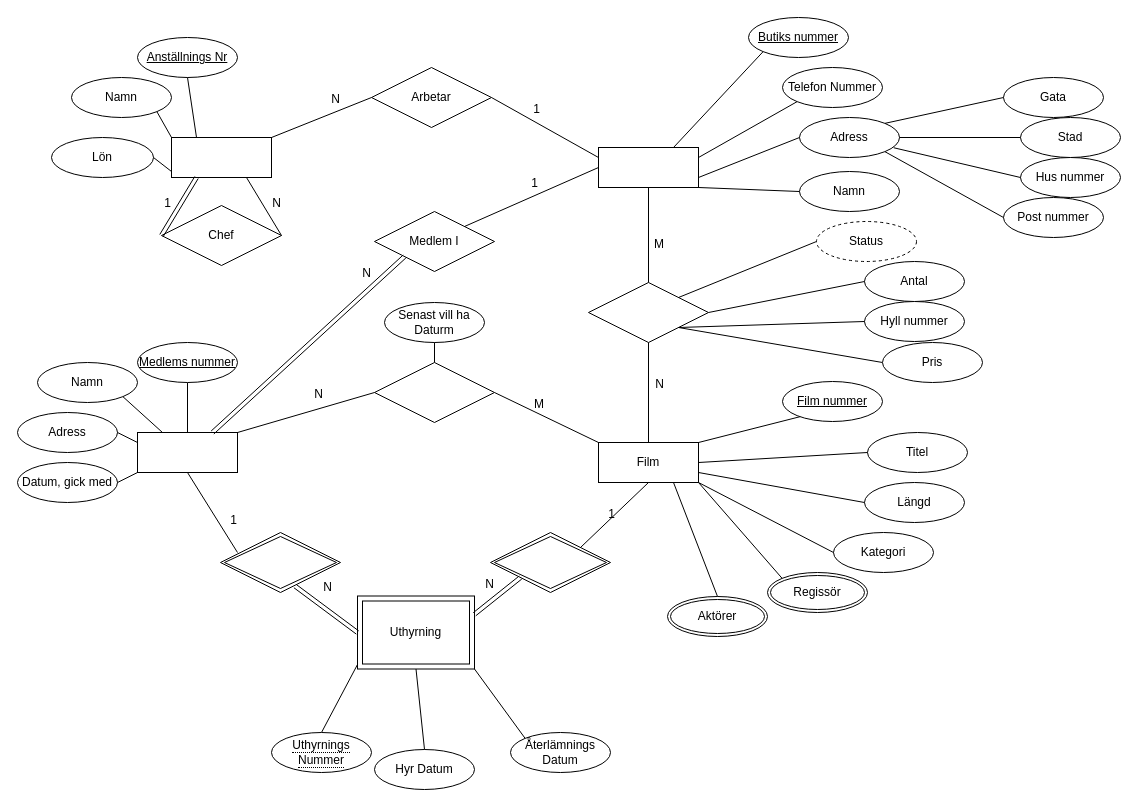
The diagram is 1138 pixels wide and 807 high, and some of its shapes have lost their labels. Each missing label, with the box of its shape:
Anställd: (170, 136, 272, 178)
Butik: (598, 146, 698, 188)
Har: (588, 282, 708, 342)
Medlem: (136, 432, 238, 472)
Resarverar: (374, 362, 494, 422)
Vad: (490, 532, 610, 592)
Vem: (220, 532, 340, 592)
